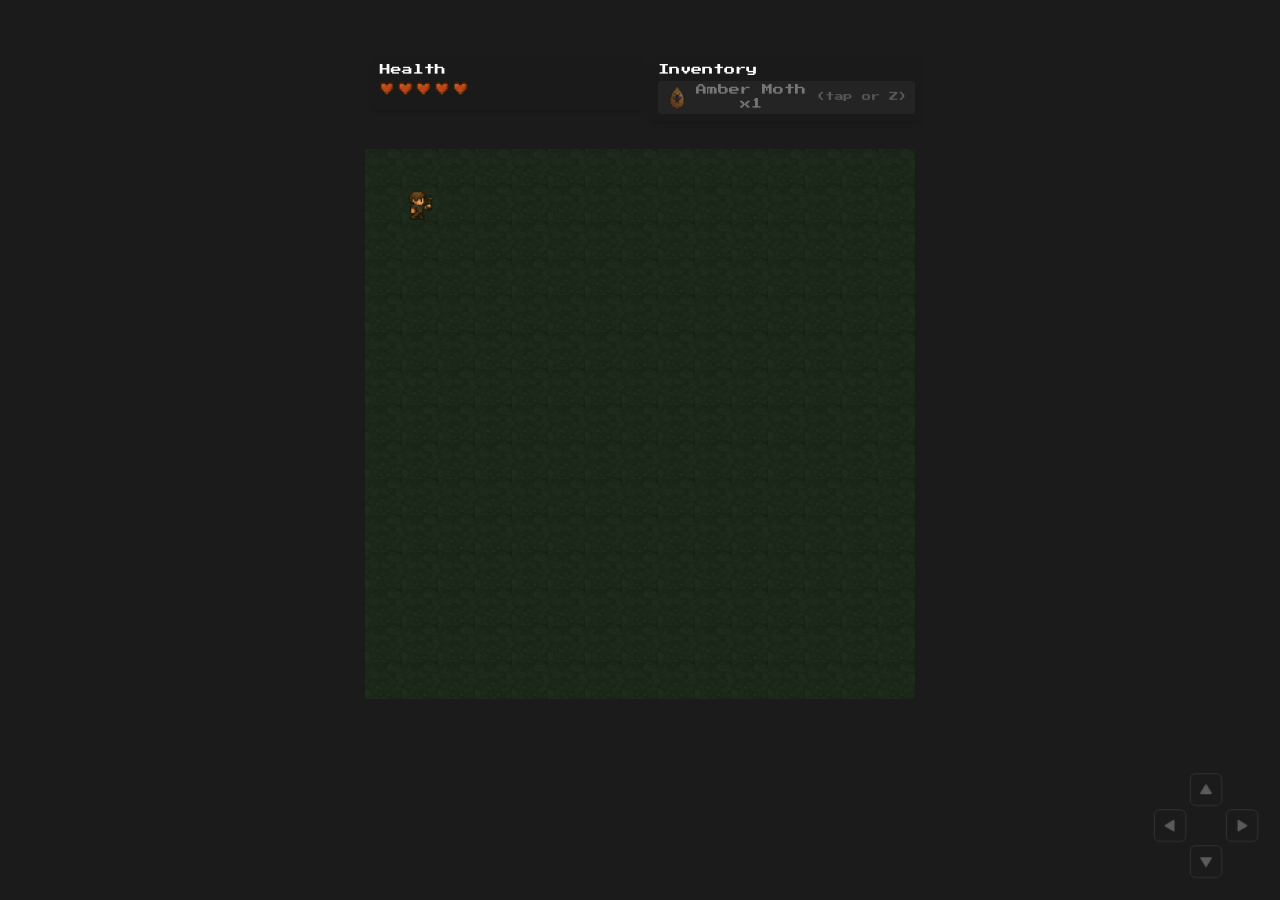
Amber Moth — manual rewind › ignores movement while previewing — the past is not playable
Press ArrowRight
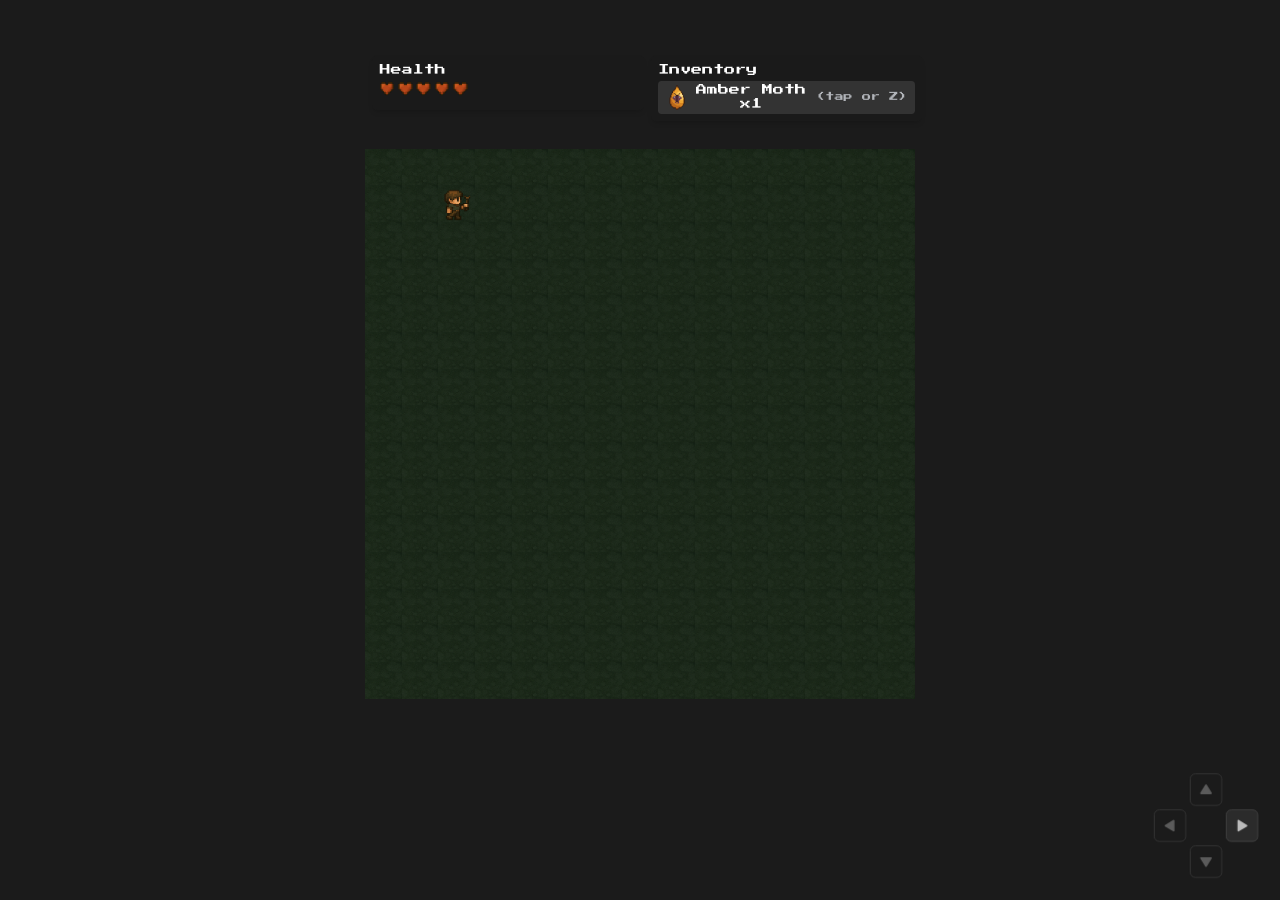
Press ArrowRight
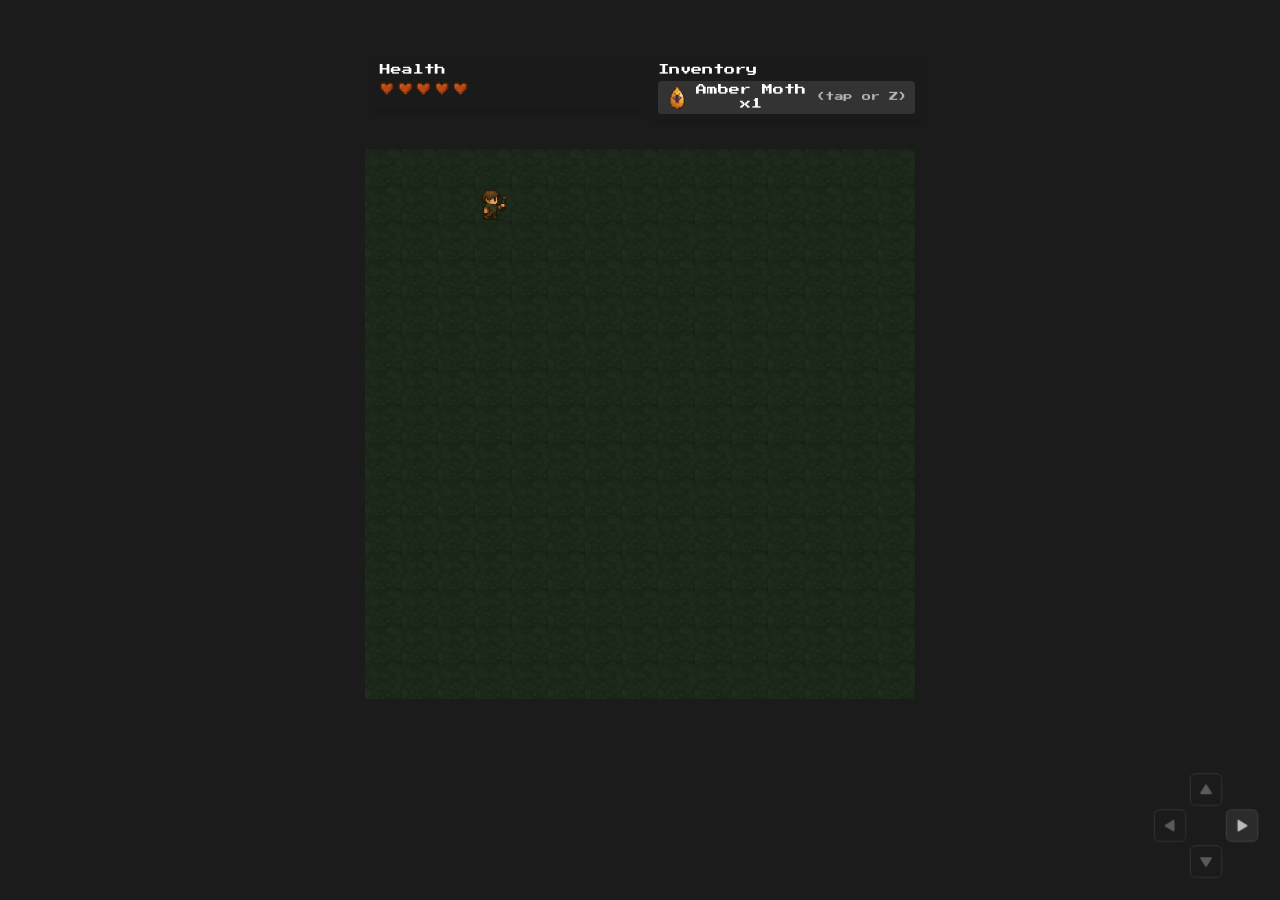
Press ArrowRight
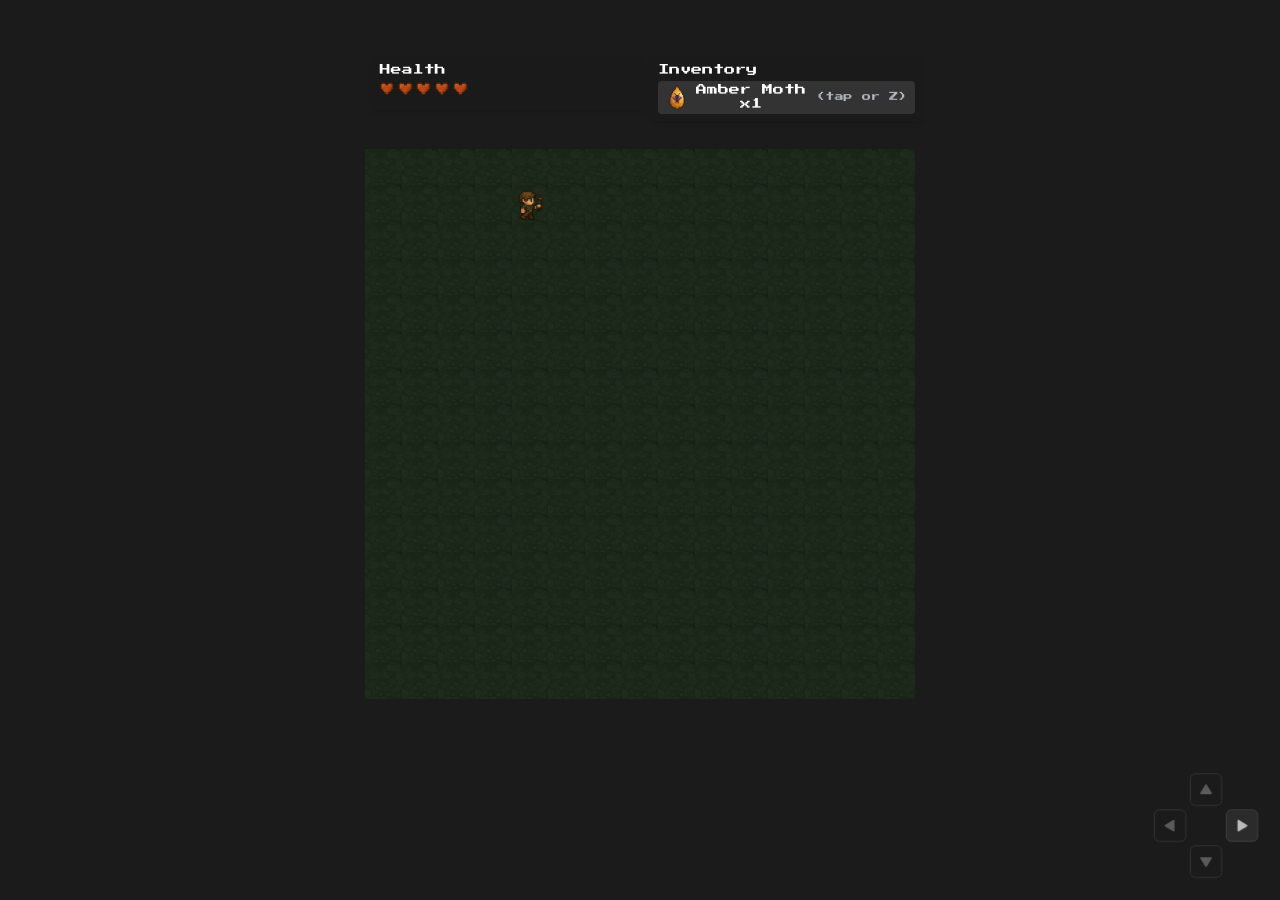
Click the button with test id "amber-moth-button".
click(787, 98)  # box top-left (658, 81), bottom-right (915, 114)
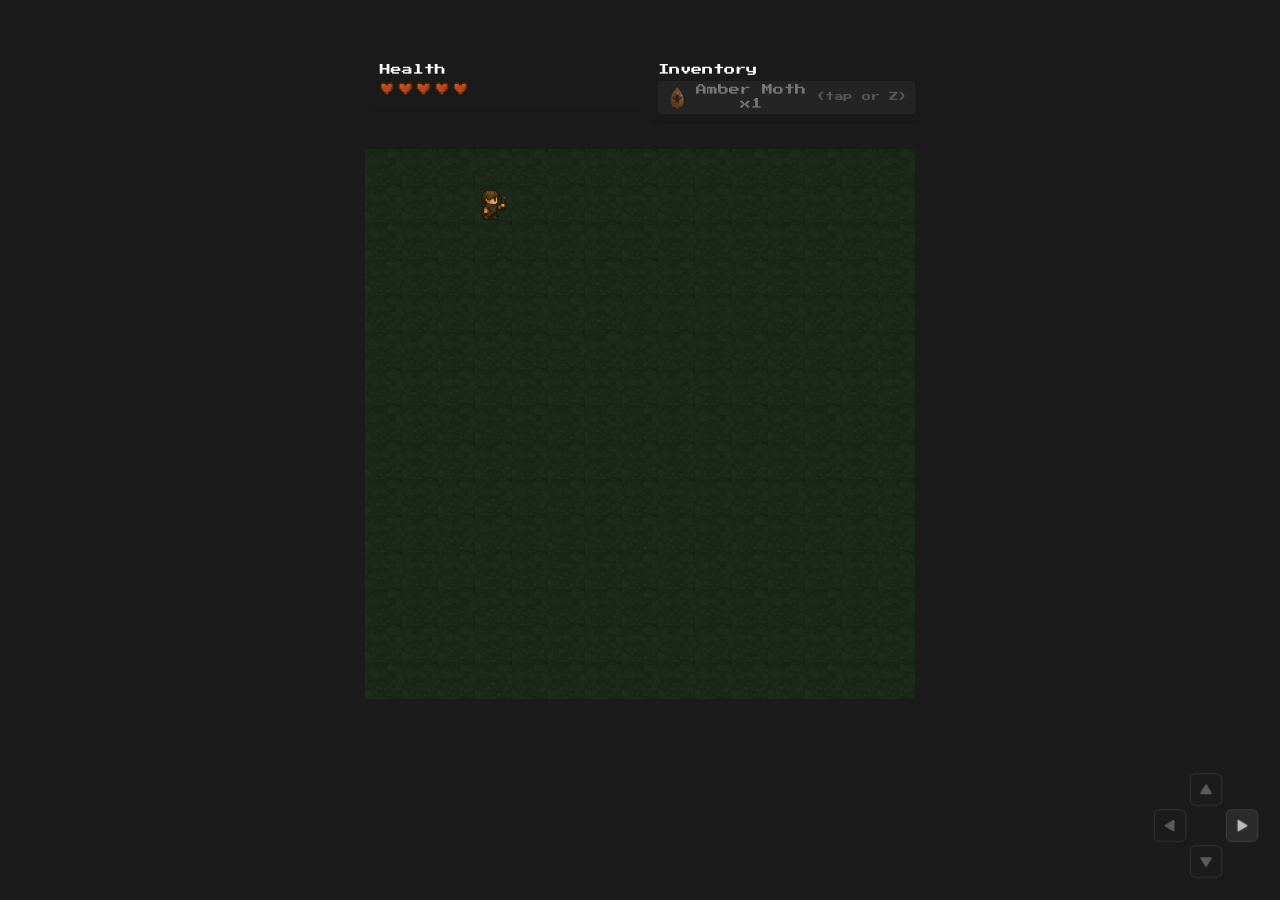
Press ArrowUp
Press ArrowRight
Press ArrowDown
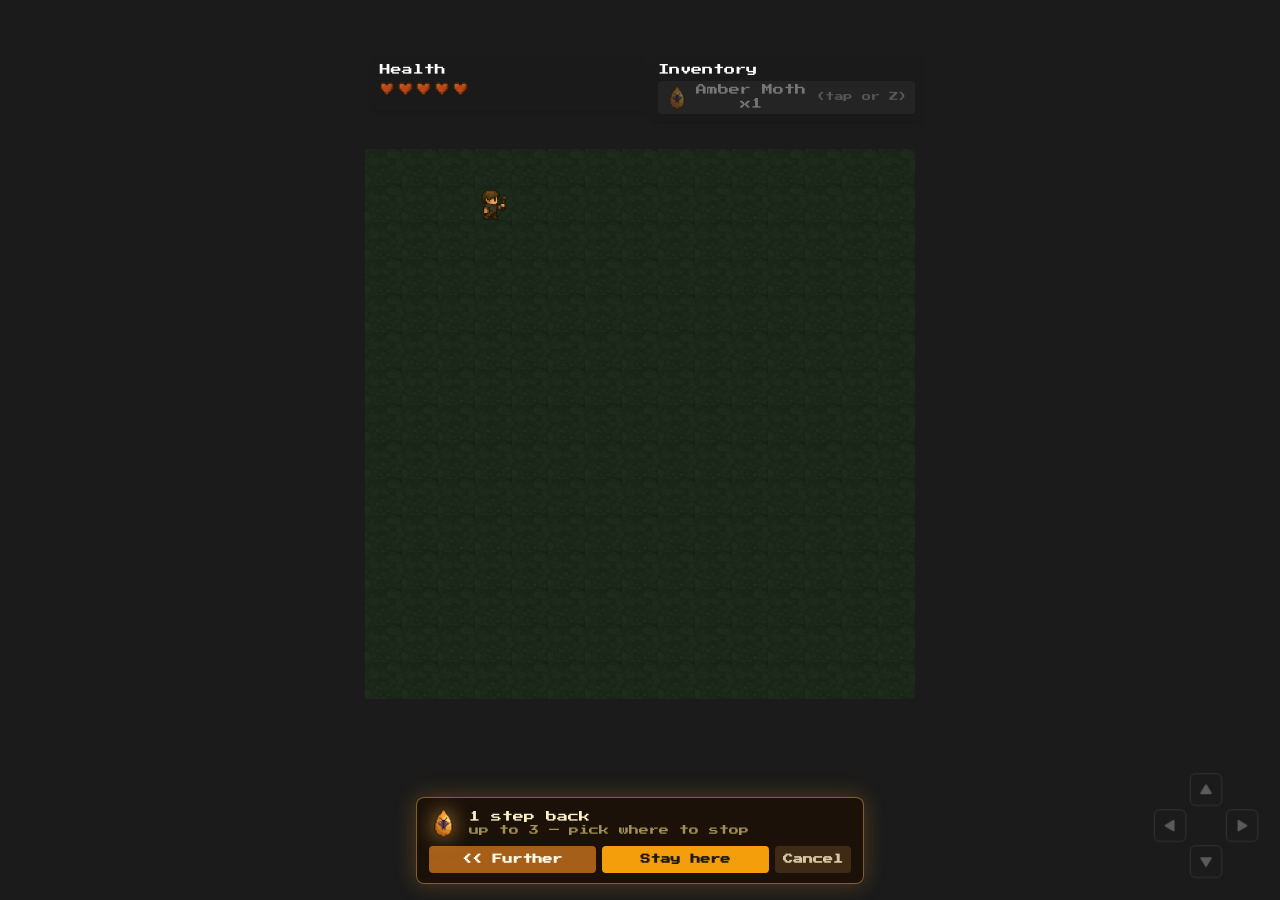
expect the dialog with test id "rewind-preview" is shown: met, box top-left (416, 797), bottom-right (864, 884)
expect the text with test id "rewind-depth" reads "1 step back": met, box top-left (469, 811), bottom-right (590, 822)
